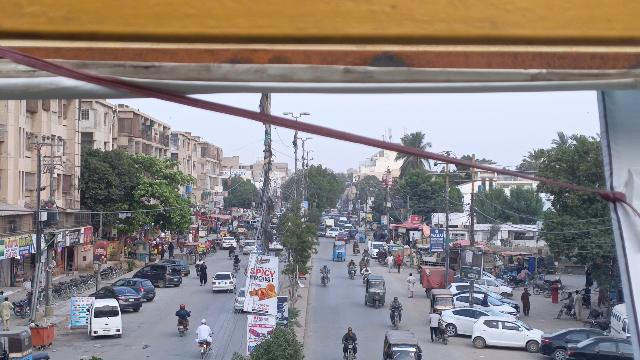Bike: (556, 300, 575, 320), (341, 340, 359, 360), (196, 337, 212, 358), (389, 308, 404, 328), (439, 321, 450, 346), (319, 272, 331, 288), (177, 319, 188, 336), (346, 267, 358, 281)
Car: (471, 314, 542, 350), (541, 326, 601, 356), (89, 286, 142, 309), (133, 264, 182, 288), (111, 277, 156, 301), (211, 270, 236, 292)
Person: (0, 296, 13, 332), (194, 318, 215, 340), (429, 309, 441, 342), (573, 289, 585, 322), (520, 287, 533, 317), (173, 303, 193, 321), (341, 324, 359, 342), (406, 271, 417, 299), (389, 296, 405, 311), (199, 261, 208, 286), (317, 263, 333, 275), (386, 253, 394, 271), (564, 291, 574, 304), (396, 254, 403, 272), (347, 258, 358, 268)
Rickshaw: (382, 328, 423, 360), (0, 329, 36, 360), (429, 287, 454, 322), (363, 274, 387, 308), (332, 239, 347, 263)
Van: (87, 298, 123, 339)
